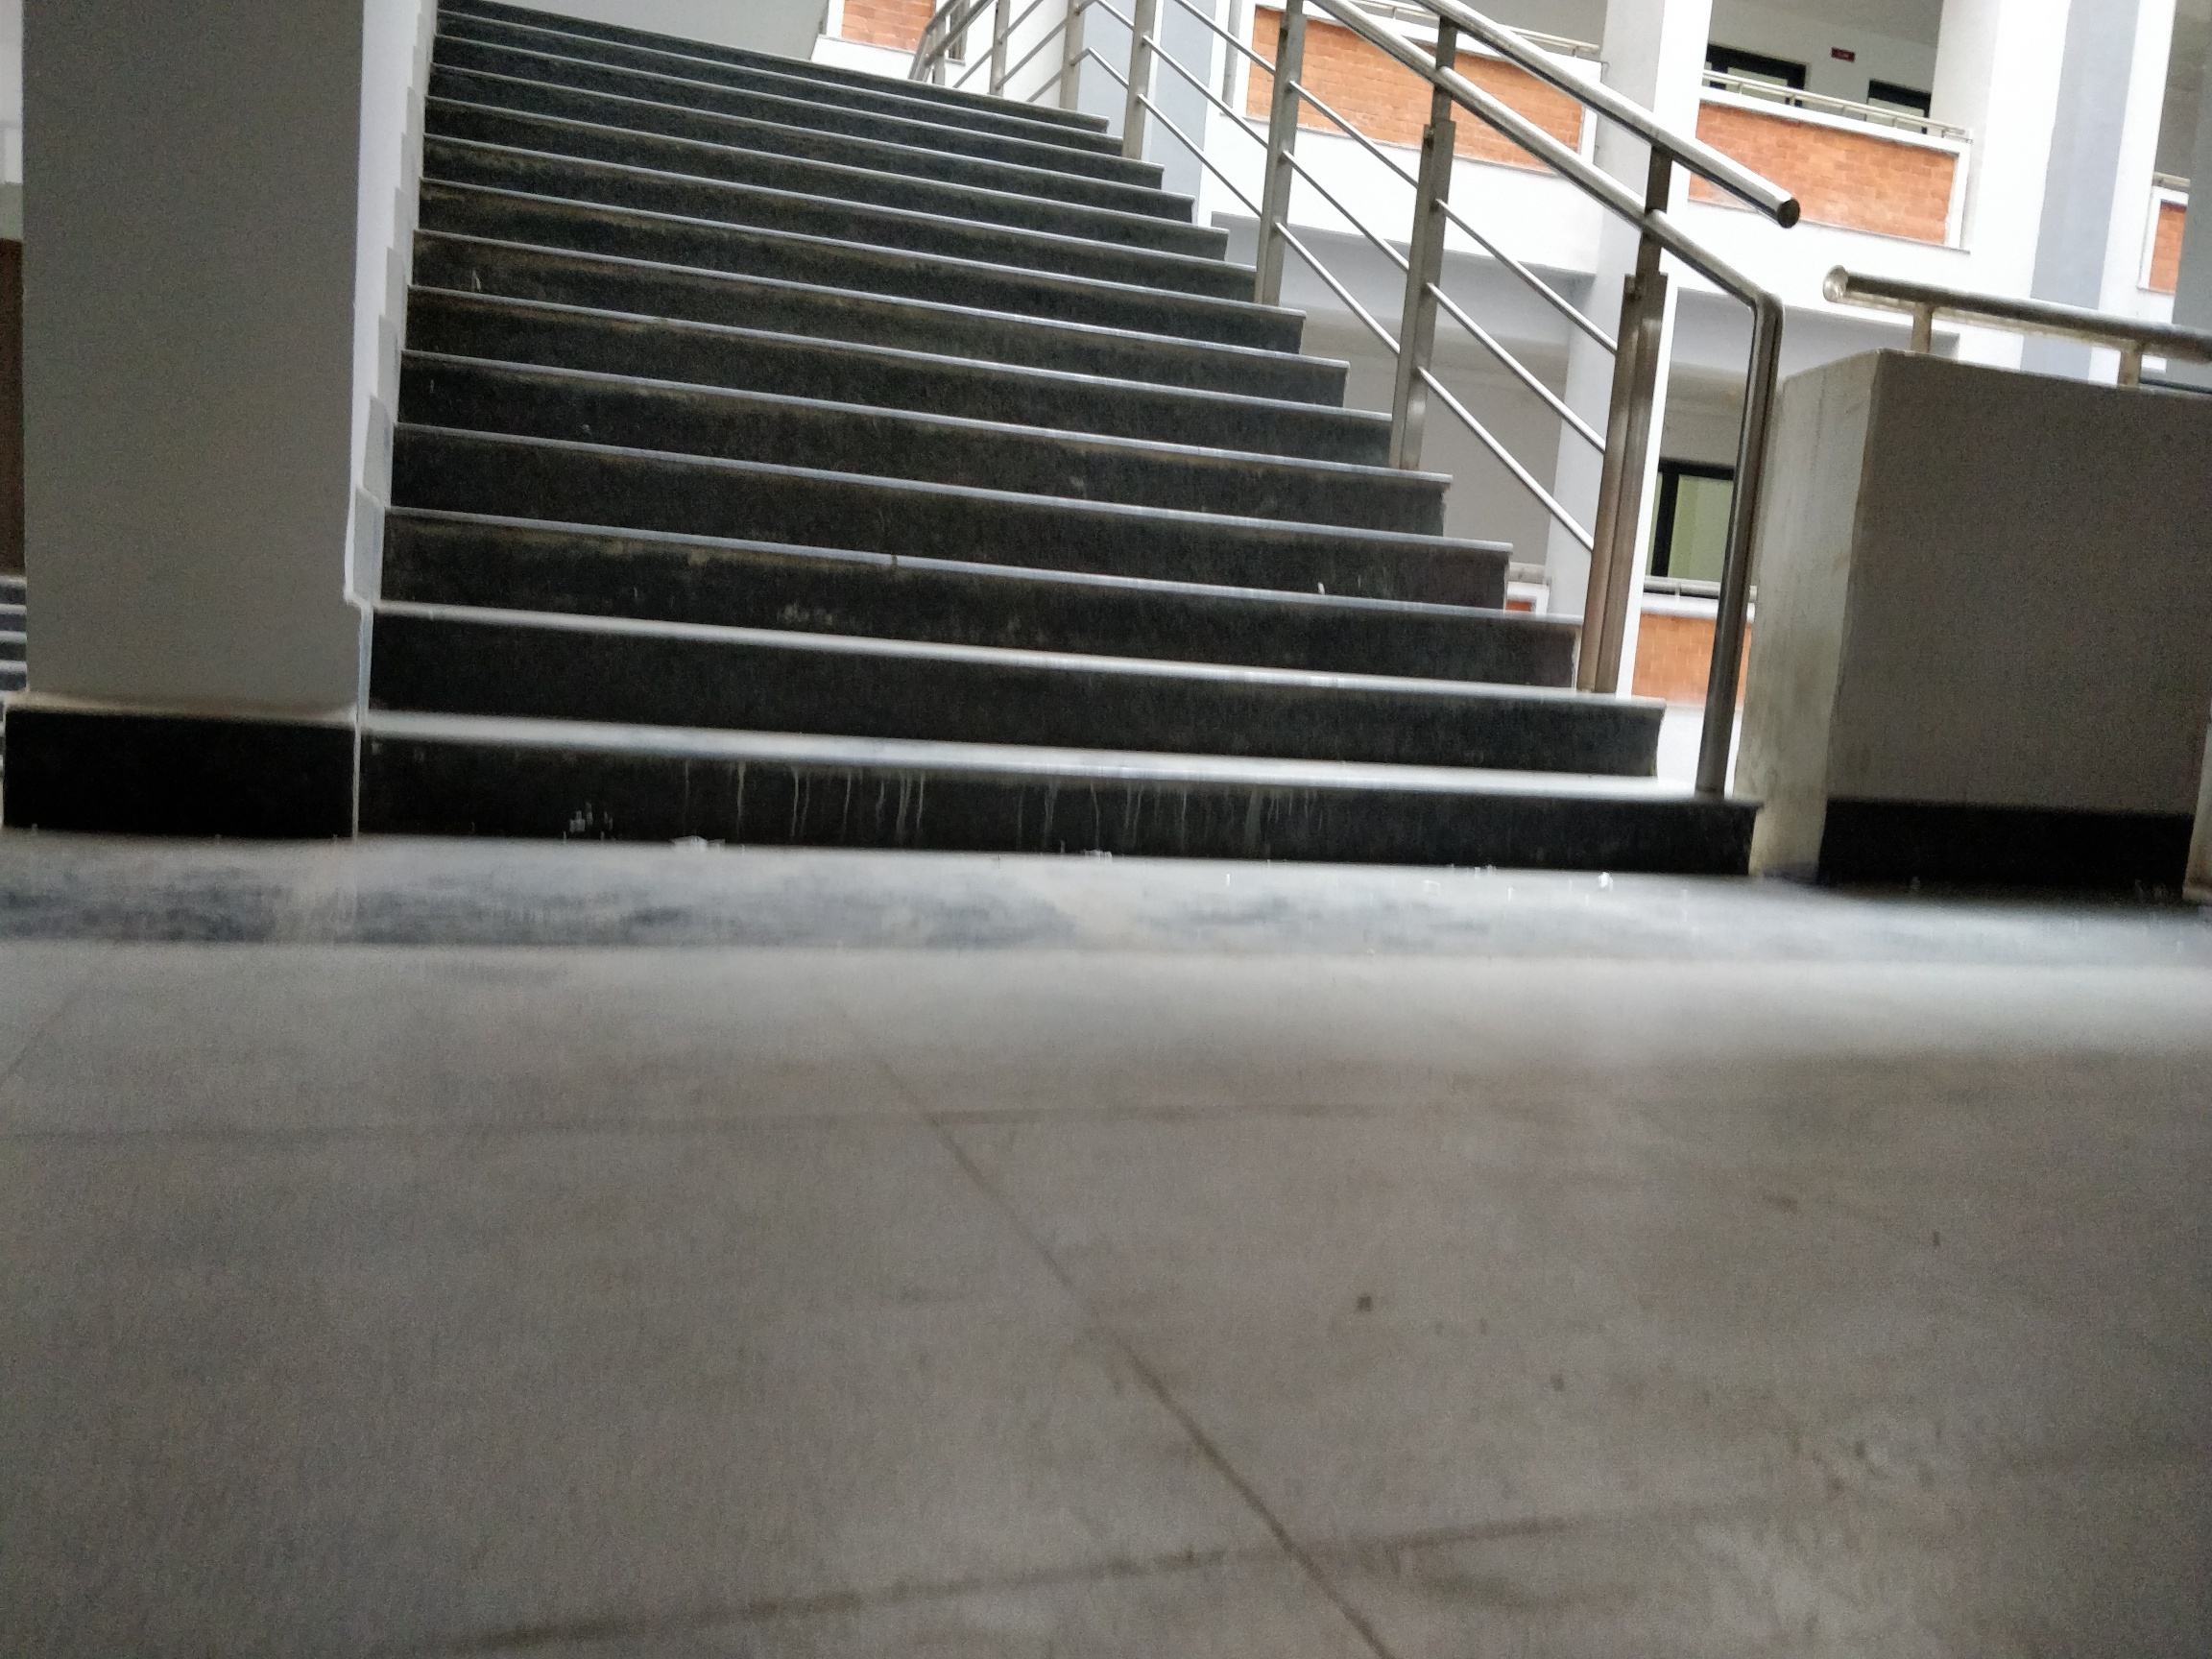stairs_up: (408, 31, 1517, 875)
